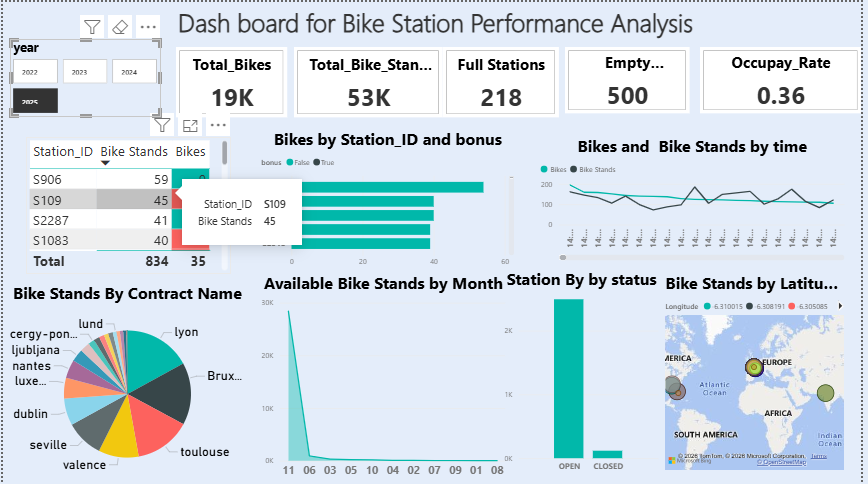

This screenshot's page, from the dashboard's own definition file:
{"tool":"powerbi","page":{"name":"dashboard","canvas":[1280,720],"ordinal":10},"visuals":[{"type":"textbox","box":[10.1,0,1270.1,80.6],"z":0},{"type":"advancedSlicerVisual","fields":{"Values":["date_dim.year"]},"box":[10.4,52.2,225.4,131.3],"z":1000},{"type":"cardVisual","fields":{"Data":["fact.Total_Bikes"]},"box":[257.8,67.7,165.6,105.1],"z":2000},{"type":"cardVisual","fields":{"Data":["fact.Total_Stands"]},"box":[434.9,67.7,221.8,105.1],"z":3000},{"type":"cardVisual","fields":{"Data":["fact.Full Stations"]},"box":[656.6,67.7,172.8,105.1],"z":4000},{"type":"cardVisual","fields":{"Data":["fact.Empty Stations"]},"box":[839.5,67.7,185.8,99.4],"z":5000},{"type":"cardVisual","fields":{"Data":["fact.Occupay_Rate"]},"box":[1039.7,67.7,240.5,99.4],"z":6000},{"type":"pieChart","title":"Bike Stands By Contract Name","fields":{"Category":["contract_dim.Contract Name"],"Y":["Sum(fact.Bike Stands)"]},"box":[0,417.6,371.5,302.4],"z":7000},{"type":"areaChart","fields":{"Category":["date_dim.Month"],"Y":["Sum(fact.Available Bike Stands)"]},"box":[380.2,403.2,374.4,316.8],"z":8000},{"type":"columnChart","fields":{"Category":["fact.status"],"Y":["CountNonNull(Station_dim.Station_ID)"]},"box":[743,397.4,240.5,313.9],"z":9000},{"type":"map","fields":{"Category":["Station_dim.Latitude"],"Size":["Sum(fact.Bike Stands)"],"Series":["Station_dim.Longitude"]},"box":[983.5,403.2,276.5,301],"z":10000},{"type":"lineChart","fields":{"Y":["Sum(fact.Available Bikes)","Sum(fact.Available Bike Stands)"],"Category":["date_dim.time"]},"box":[796.3,198.7,463.7,191.5],"z":11000},{"type":"barChart","fields":{"Category":["Station_dim.Station_ID"],"Series":["Station_dim.bonus"],"Y":["Sum(fact.Available Bikes)"]},"box":[380.2,188.6,387.4,217.4],"z":12000},{"type":"tableEx","fields":{"Values":["Station_dim.Station_ID","Sum(fact.Available Bike Stands)","Sum(fact.Available Bikes)"]},"box":[34.3,201.5,306,204.5],"z":13000}]}

Visuals, with their boxes in screenshot pixels (x1, y1, x2, y2), scaled from the page's 1280x720 canvas onto the 868x484 screenshot:
textbox: 7/0/867/54
advancedSlicerVisual - date_dim.year: 7/35/160/123
cardVisual - fact.Total_Bikes: 175/46/287/116
cardVisual - fact.Total_Stands: 295/46/445/116
cardVisual - fact.Full Stations: 445/46/562/116
cardVisual - fact.Empty Stations: 569/46/695/112
cardVisual - fact.Occupay_Rate: 705/46/867/112
"Bike Stands By Contract Name" pieChart: 0/281/252/483
areaChart - date_dim.Month x Sum(fact.Available Bike Stands): 258/271/512/483
columnChart - fact.status x CountNonNull(Station_dim.Station_ID): 504/267/667/478
map - Station_dim.Latitude x Sum(fact.Bike Stands): 667/271/854/473
lineChart - Sum(fact.Available Bikes) x Sum(fact.Available Bike Stands): 540/134/854/262
barChart - Station_dim.Station_ID x Station_dim.bonus: 258/127/521/273
tableEx - Station_dim.Station_ID x Sum(fact.Available Bike Stands): 23/135/231/273
